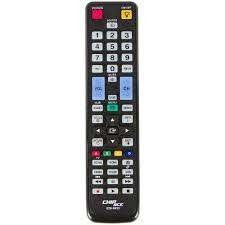remote control: (84, 2, 148, 223)
